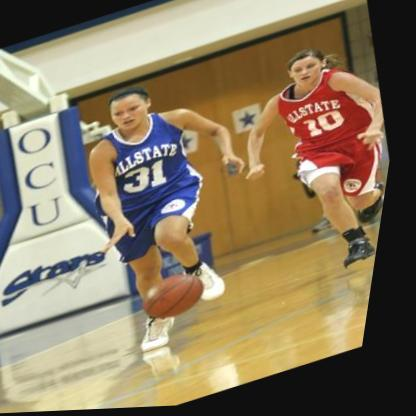basketball: (145, 268, 224, 329)
